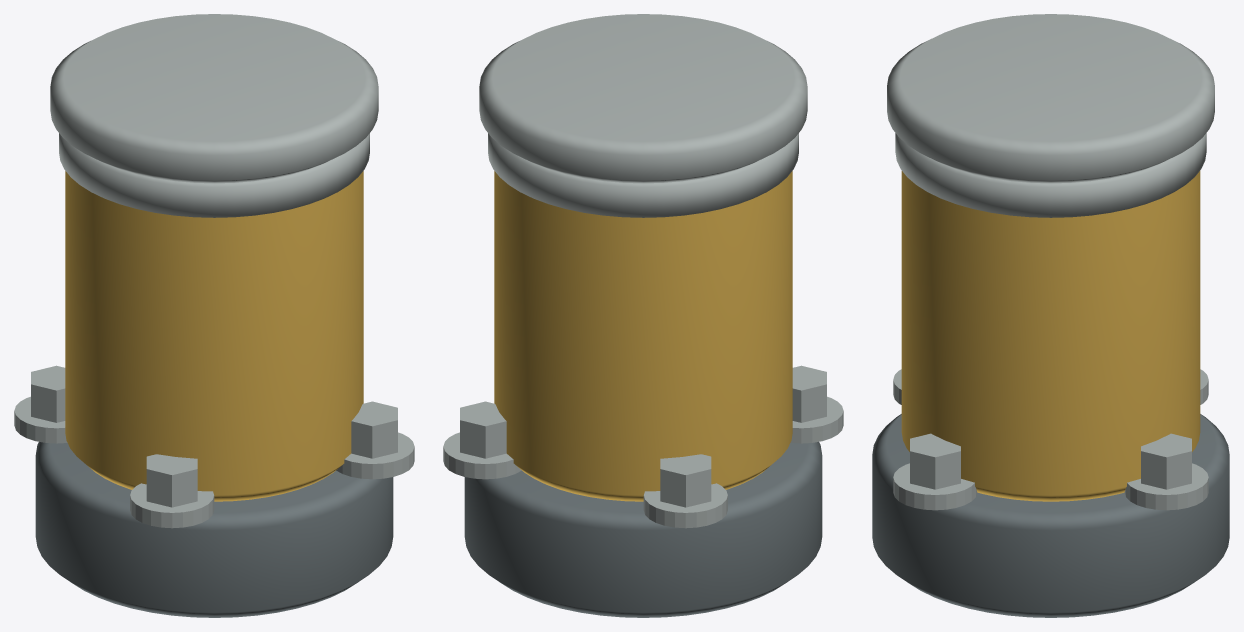
Rendered from automated-parking-and-vehicle-retrieval-automated-park-4fa96e42__30379.glb.
The picture shows the model from 3 angles, left to right: view 1: azimuth 30°, elevation 25°; view 2: azimuth 150°, elevation 25°; view 3: azimuth 270°, elevation 25°; orthographic projection.
Parts seen in each view (by area): view 1: automated-parking-and-vehicle-retrieval-fault-beacon; view 2: automated-parking-and-vehicle-retrieval-fault-beacon; view 3: automated-parking-and-vehicle-retrieval-fault-beacon.
Boxes of the visible parts, x1,y1,x2,y2 form: automated-parking-and-vehicle-retrieval-fault-beacon: (14, 14, 414, 617); automated-parking-and-vehicle-retrieval-fault-beacon: (443, 14, 843, 617); automated-parking-and-vehicle-retrieval-fault-beacon: (872, 14, 1229, 617).
Size of the model in its own units: 0.17 by 0.247 by 0.17.
